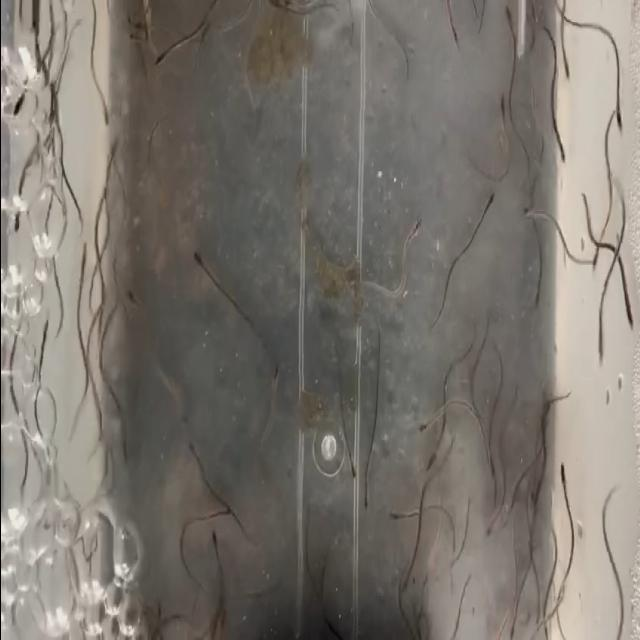active_glass_eel: (177, 434, 205, 478), (110, 434, 130, 490), (382, 493, 406, 538), (608, 94, 626, 150), (581, 242, 605, 282), (418, 405, 436, 454), (550, 132, 570, 176), (588, 330, 606, 378), (26, 40, 42, 94), (619, 296, 637, 343), (268, 342, 286, 387), (355, 478, 375, 518), (6, 198, 24, 242), (95, 100, 114, 140), (192, 16, 208, 62), (10, 76, 26, 122), (552, 452, 570, 492), (476, 185, 494, 225), (71, 240, 89, 278), (48, 79, 59, 136), (498, 506, 514, 545), (107, 133, 123, 172), (122, 282, 138, 320), (558, 56, 576, 88), (496, 83, 508, 131), (40, 59, 51, 111), (422, 444, 438, 478), (484, 450, 494, 502), (408, 209, 419, 255), (89, 189, 107, 217), (207, 524, 220, 562), (478, 505, 492, 540), (520, 481, 538, 508), (150, 48, 170, 72), (219, 496, 233, 530), (448, 24, 459, 67), (528, 286, 546, 312), (43, 308, 53, 354), (504, 612, 518, 640), (417, 570, 432, 596), (190, 250, 207, 272), (502, 1, 514, 32), (344, 456, 356, 486), (518, 194, 530, 223)
